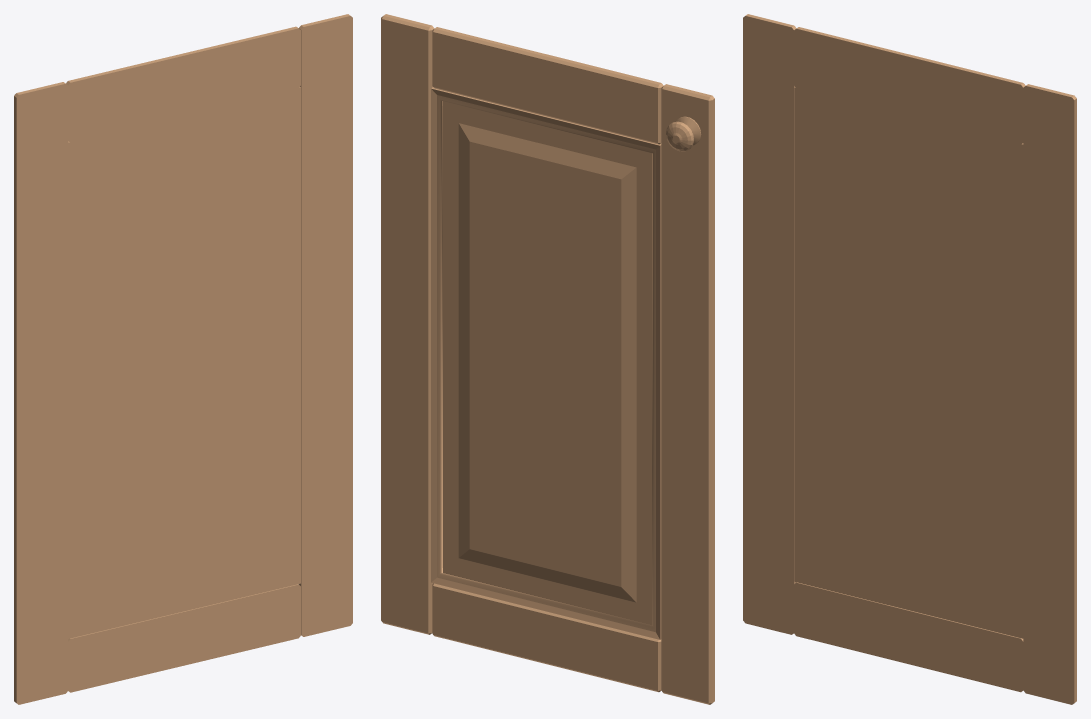
File: puerta_alacenaA.obj
3 views of the same model, side by side, from view 1: azimuth 30°, elevation 25°; view 2: azimuth 150°, elevation 25°; view 3: azimuth 330°, elevation 25° (orthographic).
Parts seen in each view (by area): view 1: polySurface541; view 2: polySurface541; view 3: polySurface541.
Part boxes in pixels (x1,y1,x2,y2): polySurface541: [14, 14, 352, 704]; polySurface541: [381, 14, 714, 704]; polySurface541: [743, 14, 1076, 704].
Size of the model in its own units: 1.15 by 2.01 by 0.1015.
1 material, 1 textured.
